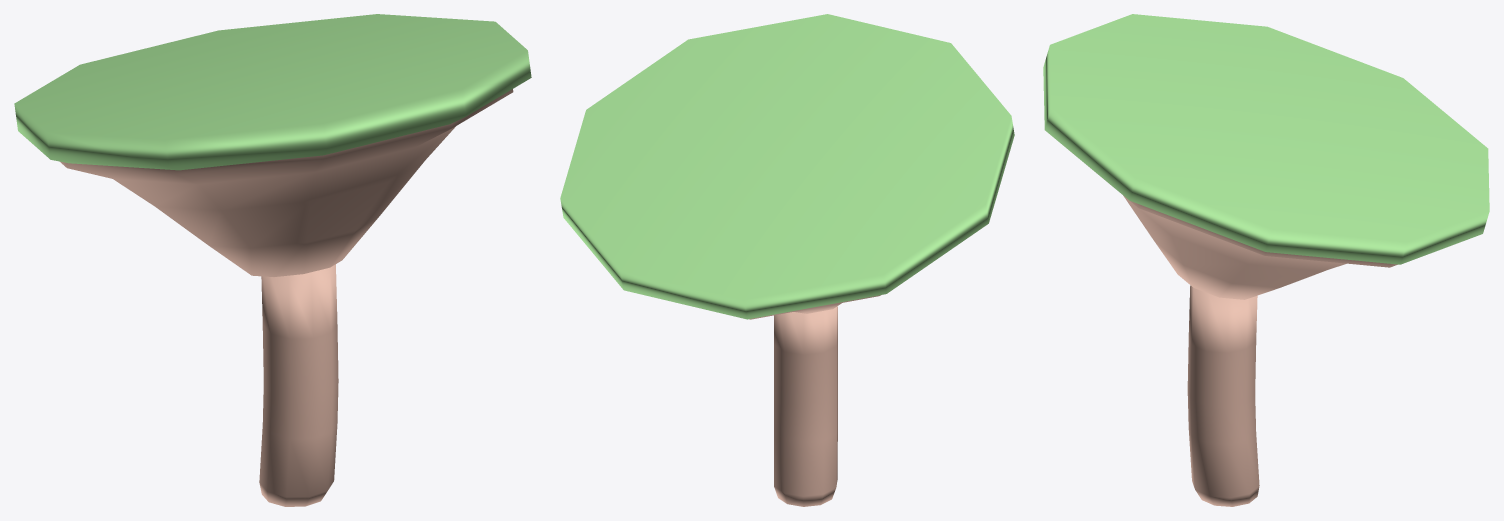
File: REVERSEDSHROOMTREE.fbx
3 views of the same model, side by side, from view 1: azimuth 30°, elevation 25°; view 2: azimuth 150°, elevation 25°; view 3: azimuth 270°, elevation 25° (orthographic). The views are drawn at different scales.
Parts seen in each view (by area): view 1: hat.004; view 2: hat.004; view 3: hat.004.
Part boxes in pixels (x1,y1,x2,y2): hat.004: (14,14,531,506); hat.004: (560,14,1014,506); hat.004: (1043,14,1489,506).
Size of the model in its own units: 781 by 758 by 732.
